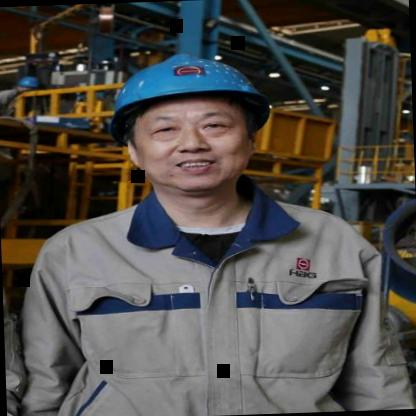helmet: (90, 42, 286, 207)
